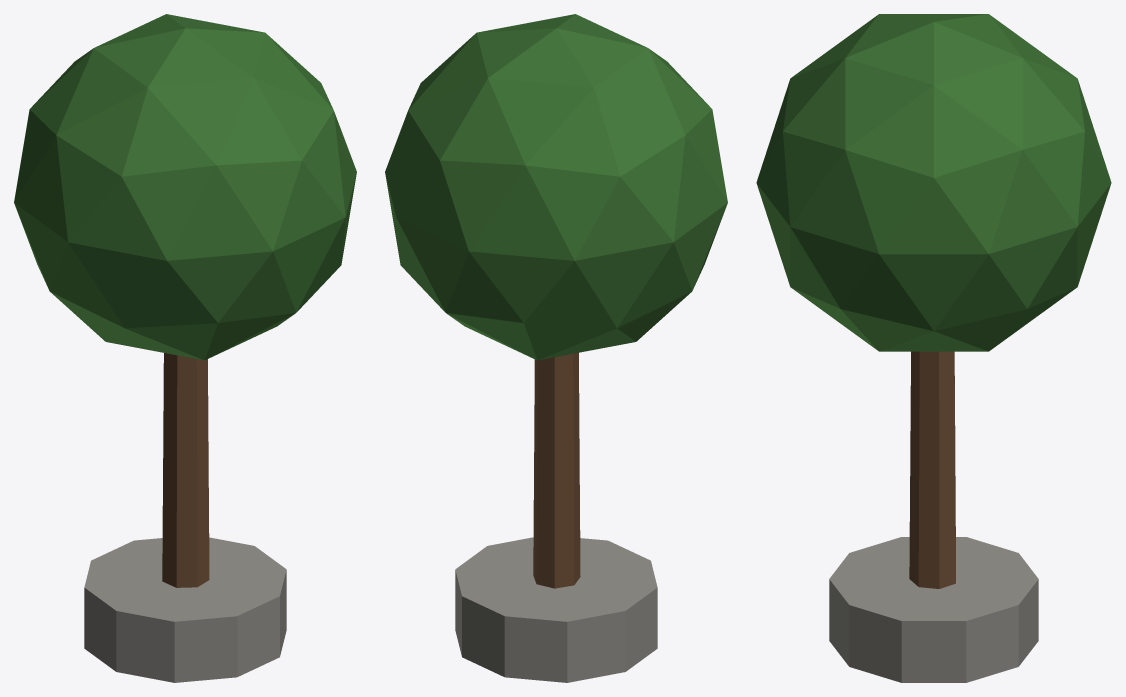
The model's file is VG_Tree_Topiary.fbx.
3 renders of one model, left to right at view 1: azimuth 30°, elevation 25°; view 2: azimuth 150°, elevation 25°; view 3: azimuth 270°, elevation 25°, orthographic.
Parts seen in each view (by area): view 1: VG_Tree_Topiary_Mesh; view 2: VG_Tree_Topiary_Mesh; view 3: VG_Tree_Topiary_Mesh.
Part boxes in pixels (bbox=[...]): VG_Tree_Topiary_Mesh: bbox=[14, 14, 356, 682]; VG_Tree_Topiary_Mesh: bbox=[385, 14, 727, 682]; VG_Tree_Topiary_Mesh: bbox=[756, 14, 1111, 682].
Size of the model in its own units: 1.48 by 3 by 1.56.
